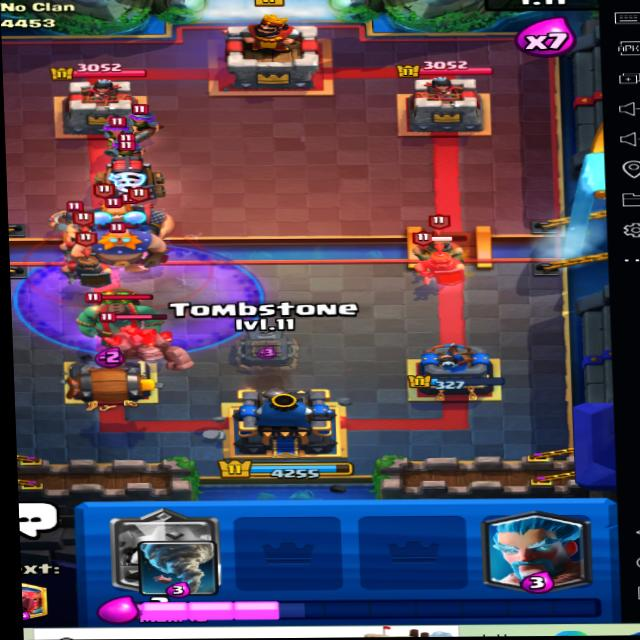Ebarbs: (46, 195, 96, 232)
Egiant: (65, 209, 180, 279)
Goblingiant: (76, 296, 177, 354)
Golem: (104, 318, 201, 377)
Musketeer: (125, 104, 166, 146), (100, 111, 144, 147), (109, 133, 149, 162)
Royalgiant: (72, 194, 184, 239)
Royalrecruits: (70, 245, 117, 300), (418, 233, 465, 286), (414, 220, 468, 260)
Sparky: (89, 141, 168, 203)
